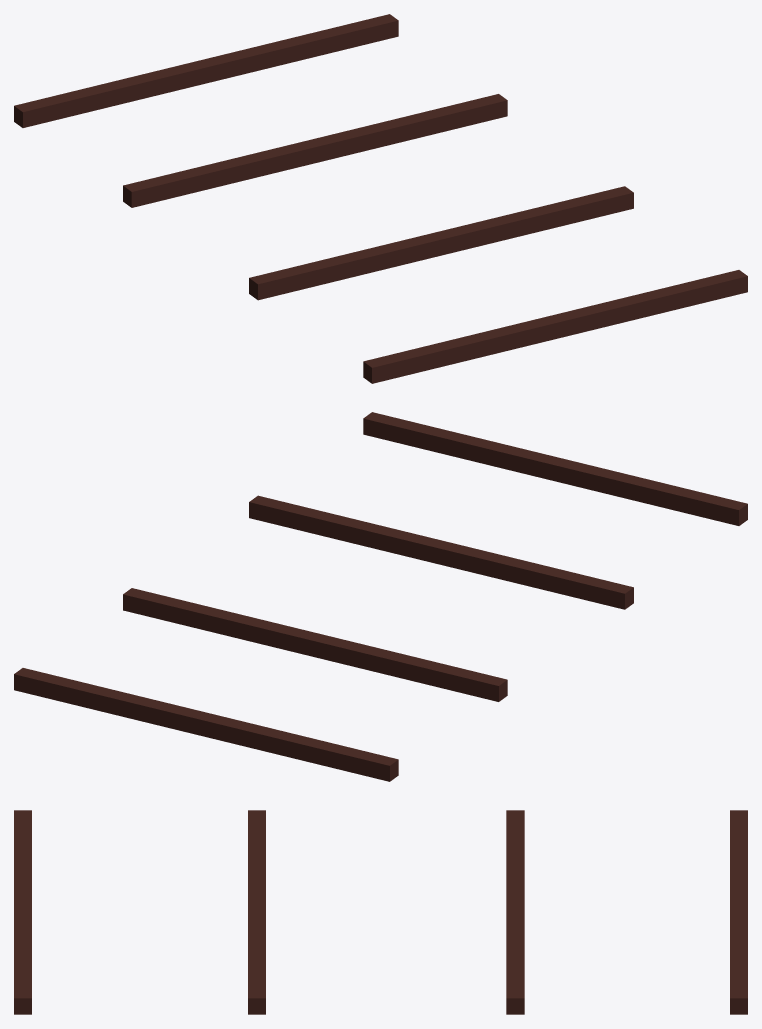
The model's file is Floorsupport.fbx.
The picture shows the model from 3 angles, top to bottom: view 1: azimuth 30°, elevation 25°; view 2: azimuth 150°, elevation 25°; view 3: azimuth 270°, elevation 25°; orthographic projection. The views are drawn at different scales.
Parts seen in each view (by area): view 1: FloorBase.003; view 2: FloorBase.003; view 3: FloorBase.003.
Boxes of the visible parts, x1=… form: FloorBase.003: x1=14, y1=14, x2=747, y2=383; FloorBase.003: x1=14, y1=412, x2=747, y2=781; FloorBase.003: x1=14, y1=810, x2=747, y2=1014.
Bounding box in the file's own units: 240 × 9.78 × 396.
